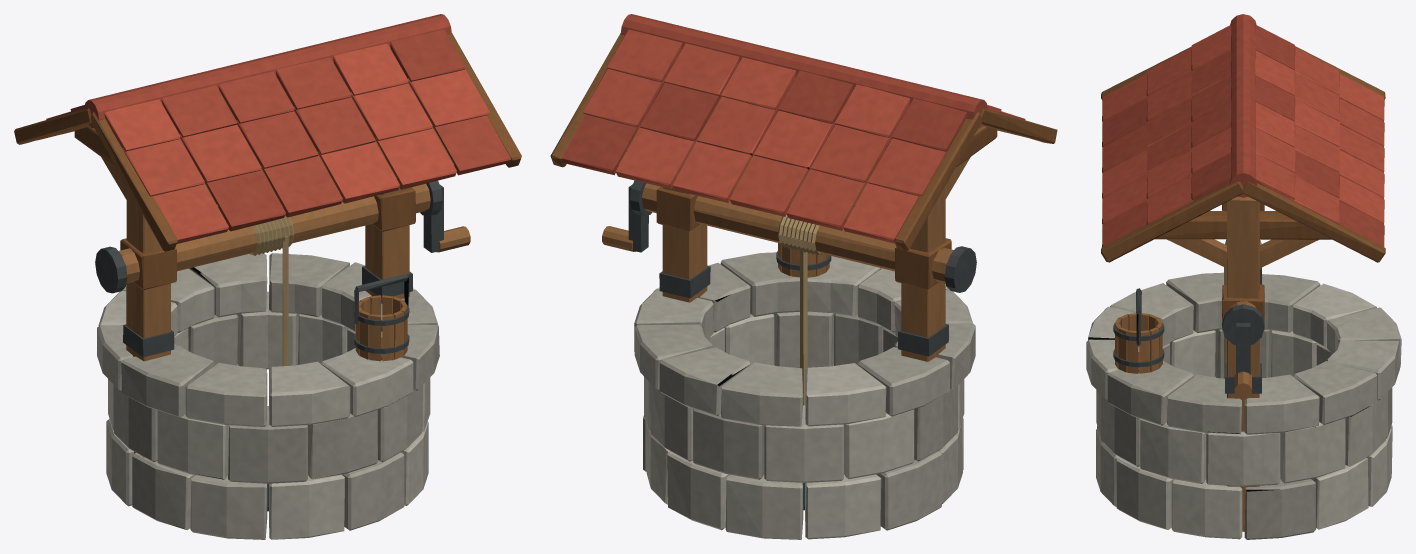
File: pozo.glb
The picture shows the model from 3 angles, left to right: view 1: azimuth 30°, elevation 25°; view 2: azimuth 150°, elevation 25°; view 3: azimuth 270°, elevation 25°; orthographic projection. The views are drawn at different scales.
Parts seen in each view (by area): view 1: SM_Pozo_LOD0; view 2: SM_Pozo_LOD0; view 3: SM_Pozo_LOD0.
Part boxes in pixels (x1=…): SM_Pozo_LOD0: x1=14, y1=14, x2=521, y2=539; SM_Pozo_LOD0: x1=550, y1=14, x2=1057, y2=539; SM_Pozo_LOD0: x1=1086, y1=14, x2=1401, y2=539.
Size of what is drawn, in the model's own units: 2.11 by 2.23 by 1.66.
Materials: 1 (1 with a texture image).
